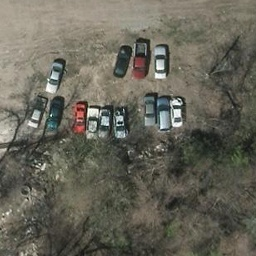car: (131, 41, 150, 80), (151, 41, 170, 80), (45, 59, 64, 94), (27, 94, 46, 129), (44, 96, 63, 131), (114, 43, 132, 76), (71, 99, 86, 135), (84, 104, 99, 140), (96, 105, 111, 141), (111, 104, 126, 140), (144, 93, 155, 127), (157, 98, 168, 132), (170, 96, 181, 130)
